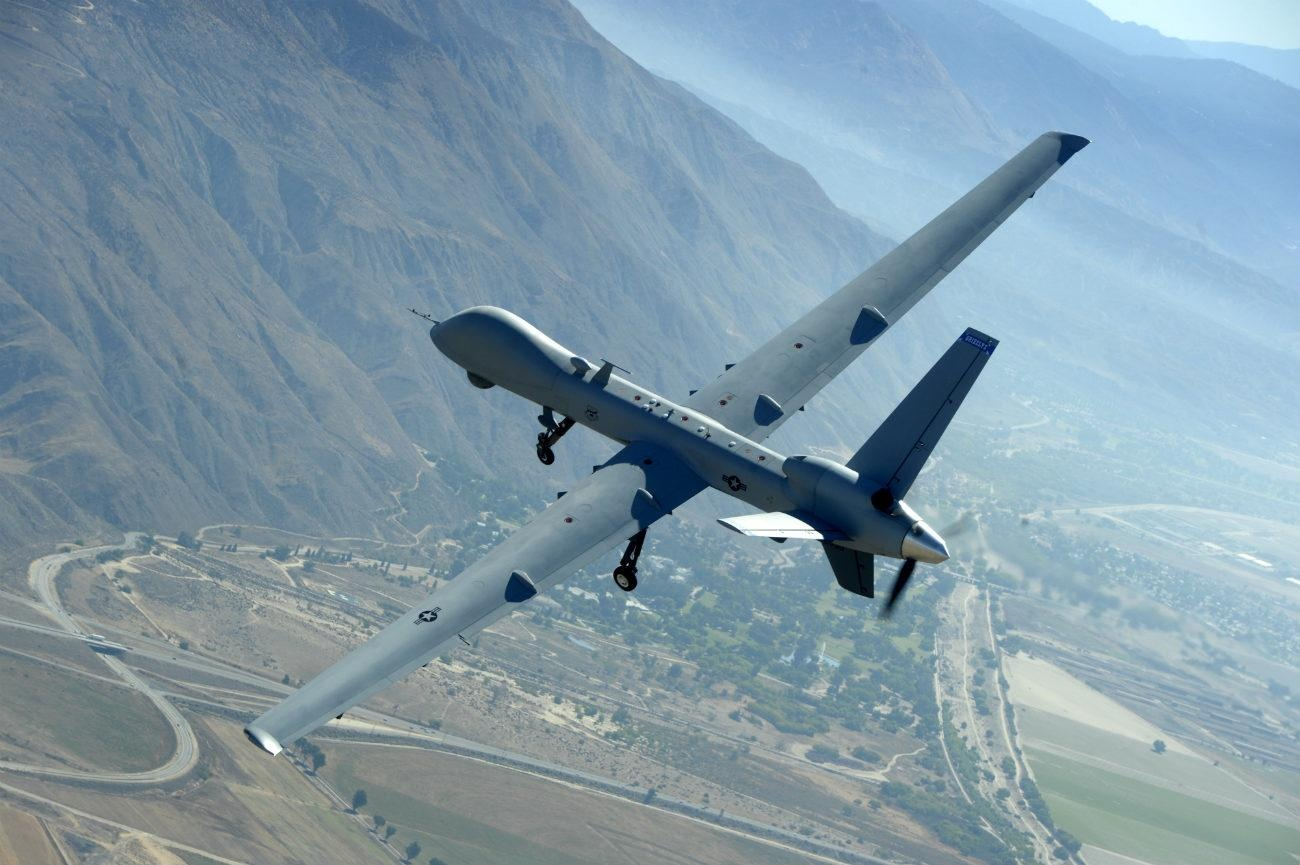aircraft: (428, 132, 1091, 617)
